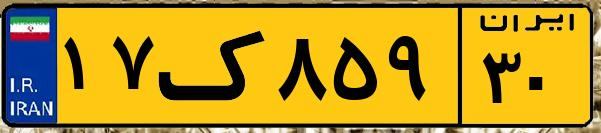0: (525, 38, 570, 115)
1: (57, 26, 110, 100)
3: (475, 38, 525, 113)
5: (330, 28, 385, 110)
7: (110, 28, 158, 98)
8: (270, 28, 330, 110)
9: (385, 28, 445, 110)
ک: (158, 12, 270, 120)
